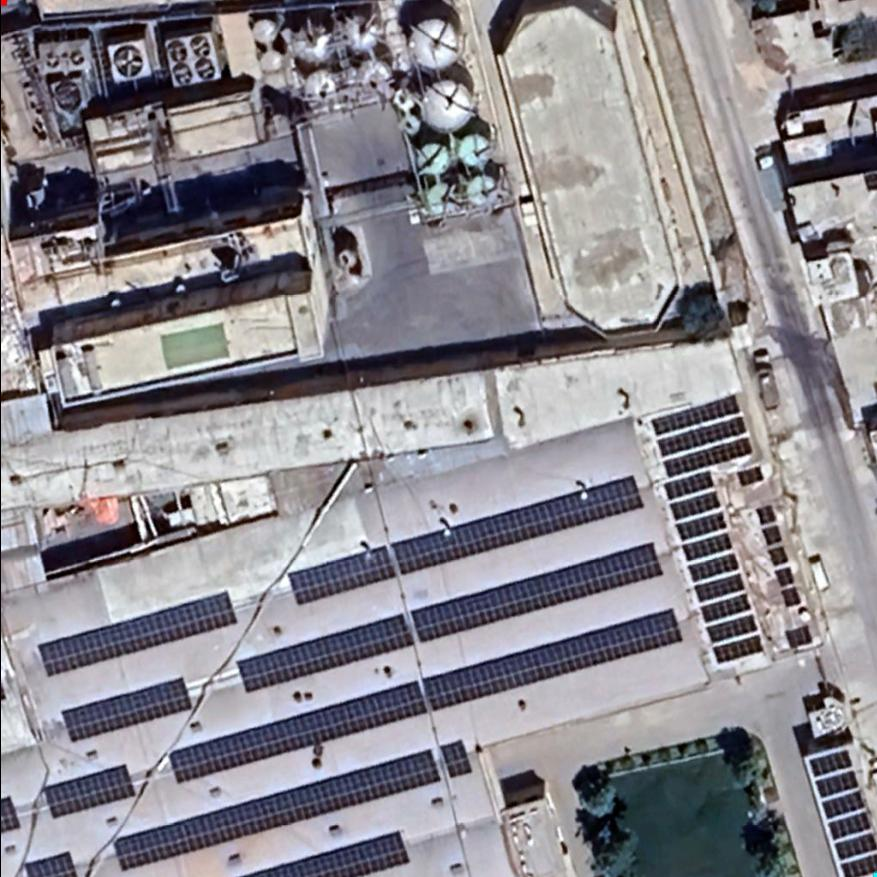Solarpanel: (278, 470, 647, 612), (107, 743, 449, 876), (653, 467, 772, 670), (32, 585, 242, 686), (53, 669, 204, 747), (645, 388, 758, 484), (804, 745, 875, 876), (234, 825, 416, 872), (750, 498, 808, 615), (35, 759, 138, 823), (16, 845, 88, 876), (0, 789, 28, 839), (785, 620, 820, 658), (734, 460, 772, 490)
